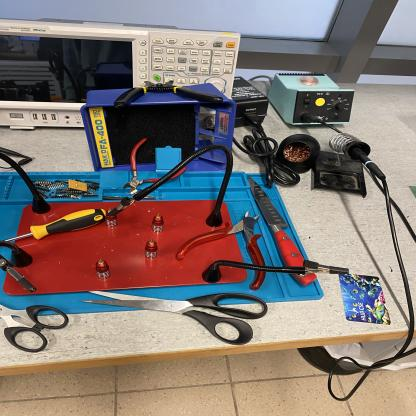Knife: (246, 176, 318, 286)
scissors: (82, 292, 268, 346), (0, 300, 69, 353)
